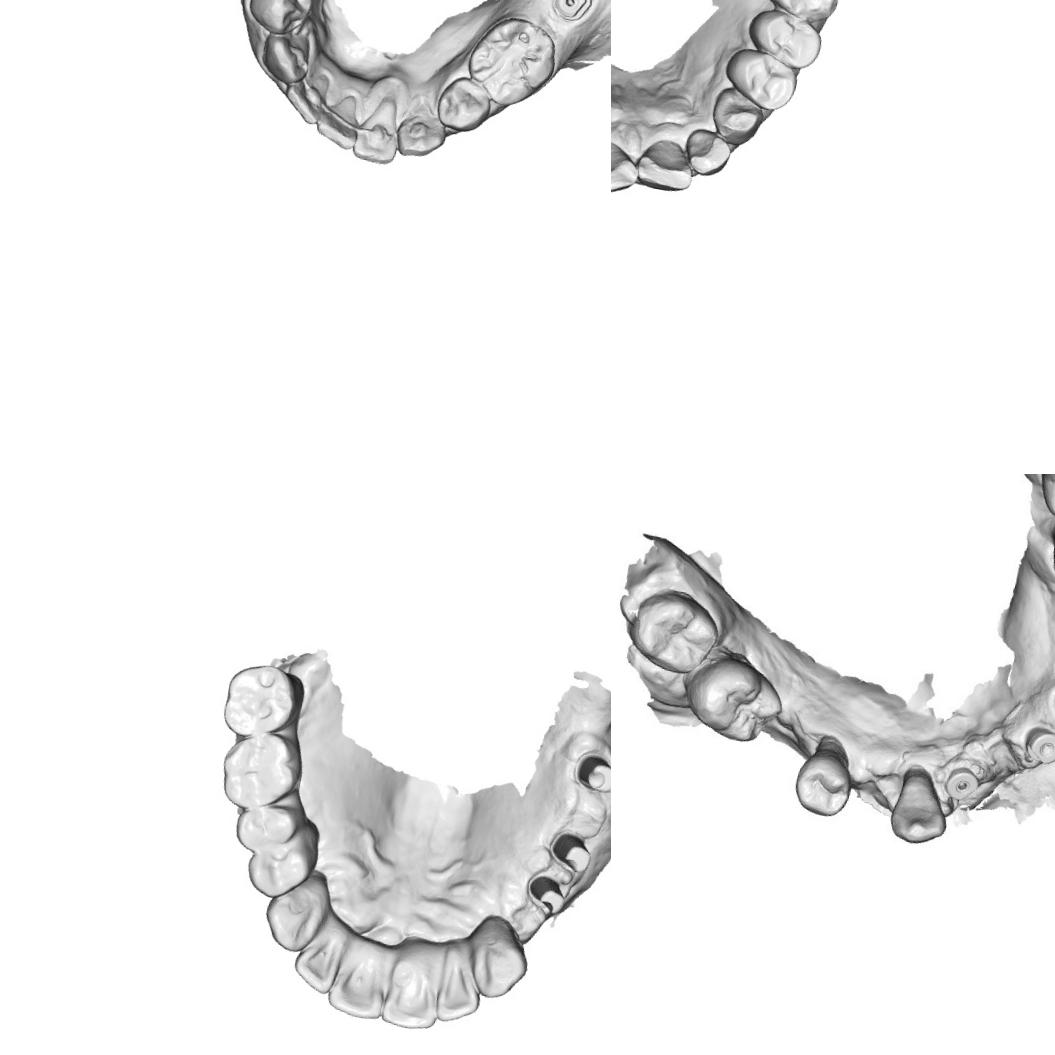abutment: (521, 869, 572, 919), (546, 826, 596, 876), (568, 747, 611, 796)
canine: (258, 869, 332, 958), (884, 760, 956, 850), (461, 925, 535, 1005), (707, 81, 771, 148), (255, 28, 318, 88), (395, 102, 451, 164)
implant: (942, 759, 982, 801), (546, 0, 598, 27), (1027, 728, 1055, 770)
incisor: (324, 942, 392, 1023), (376, 956, 446, 1034), (630, 131, 700, 196), (347, 99, 409, 168), (278, 68, 344, 132), (288, 924, 346, 996), (308, 90, 368, 156), (430, 959, 486, 1027), (678, 123, 735, 182), (611, 134, 641, 202)
molar: (617, 579, 727, 679), (214, 724, 310, 819), (684, 658, 786, 747), (469, 16, 557, 109), (218, 655, 300, 745), (749, 0, 853, 29)
premolar: (240, 826, 321, 905), (738, 2, 828, 72), (719, 45, 802, 116), (790, 739, 859, 820), (229, 796, 303, 859), (433, 70, 495, 136), (239, 0, 314, 41)
